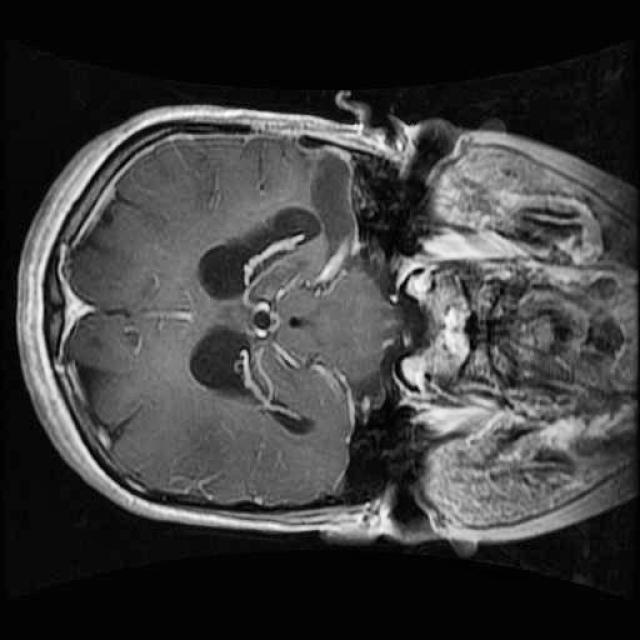Non-Tumor: (299, 135, 372, 314)
